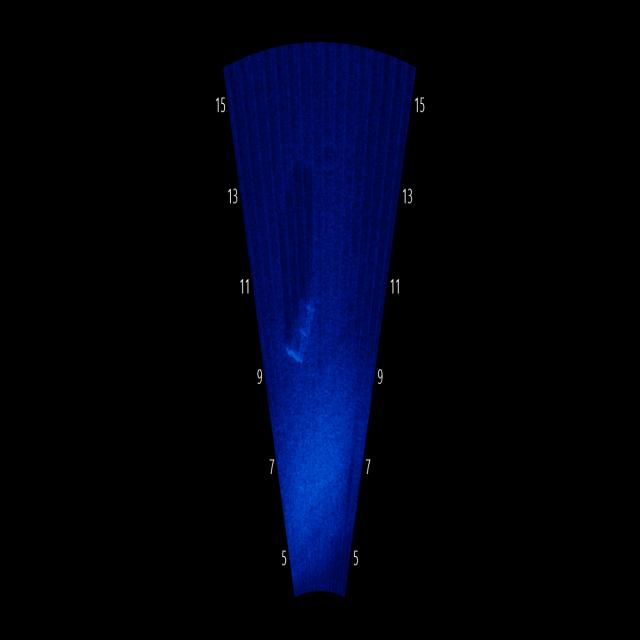square: (281, 273, 329, 376)
